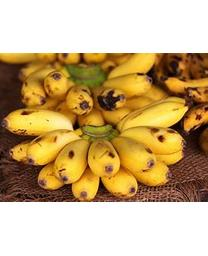banana: (4, 68, 191, 202)
